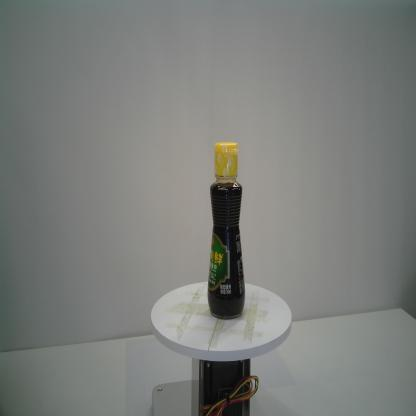Seasoner: (206, 141, 247, 320)
